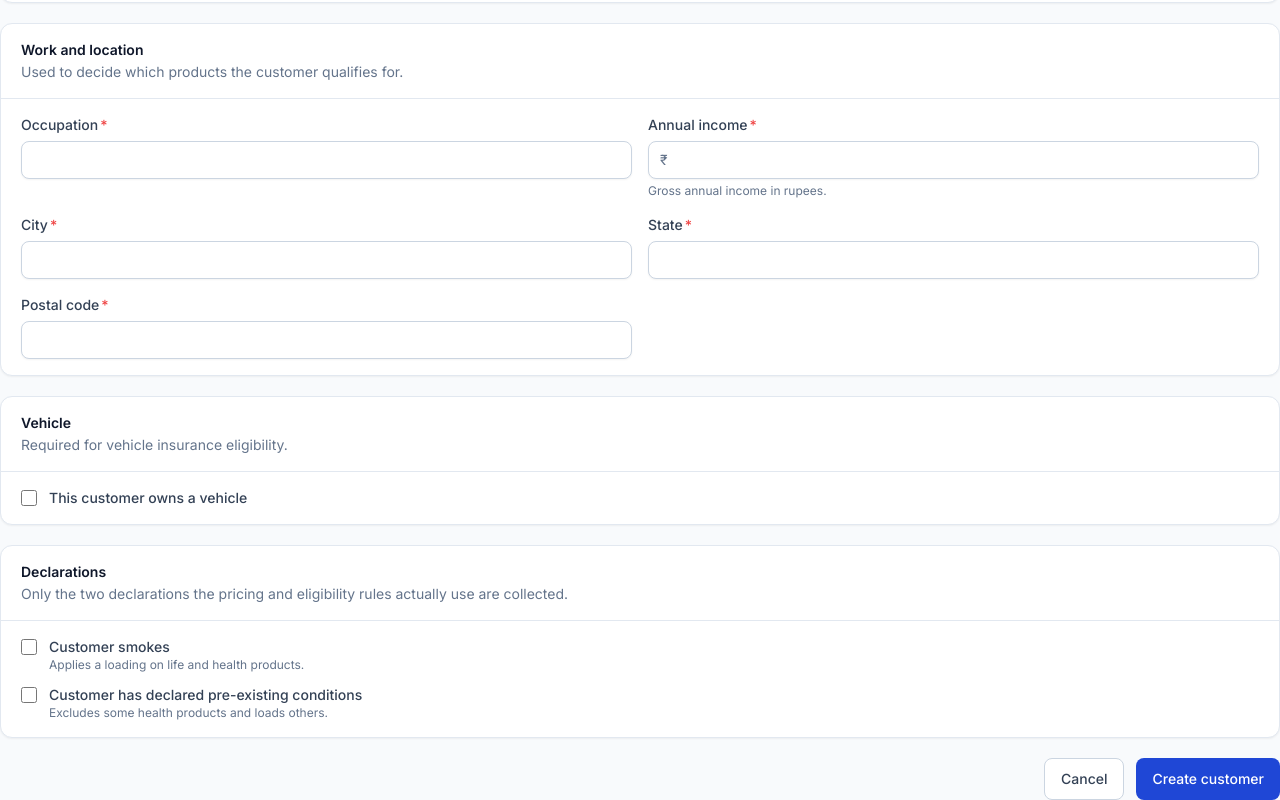
Test: <CustomerForm /> › reveals vehicle fields only after the agent ticks "owns a vehicle"
(page scrolled)
Expected: the field labelled "declared value" is not shown
What coordinates should you click on to do the following:
click the checkbox labelled "This customer owns a vehicle"
I would click on:
 (29, 498)
Its box is x1=21 y1=490 x2=37 y2=506.
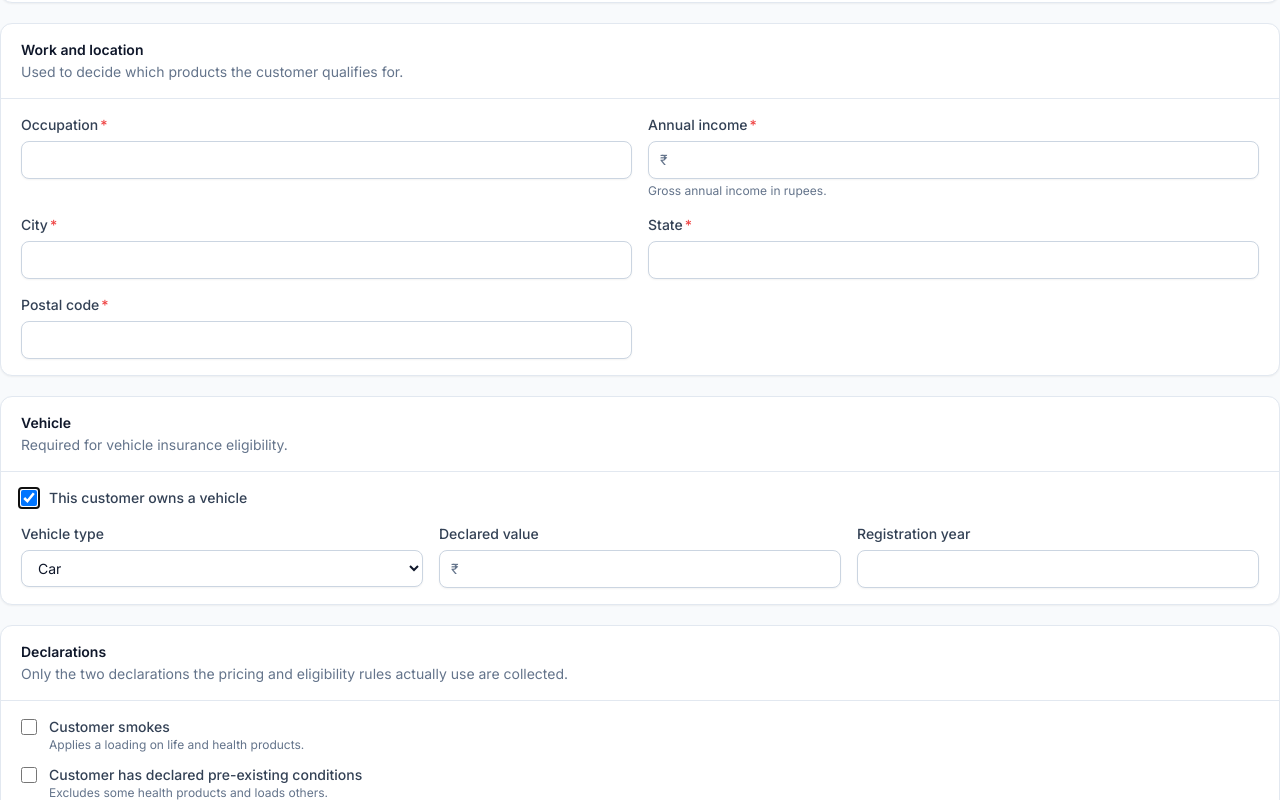
Expected: the number field labelled "Declared value" is shown, x1=439 y1=550 x2=841 y2=588
Expected: the dropdown labelled "Vehicle type" is shown, x1=21 y1=550 x2=423 y2=587
